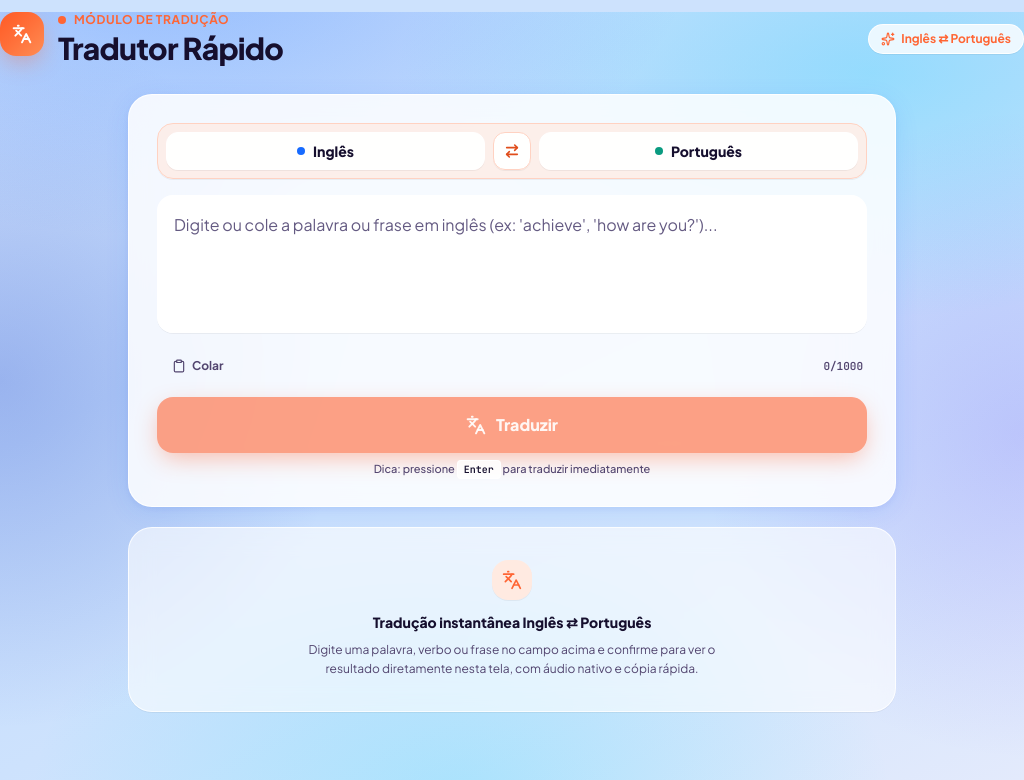
Test: QuickTranslatorView Component Tests › inverts language direction and swaps content without data loss
Replace the text in the text box with placeholder "Digite ou cole a palavra ou frase em inglês" with "break" at coordinates (512, 264), box [157,195,867,333]
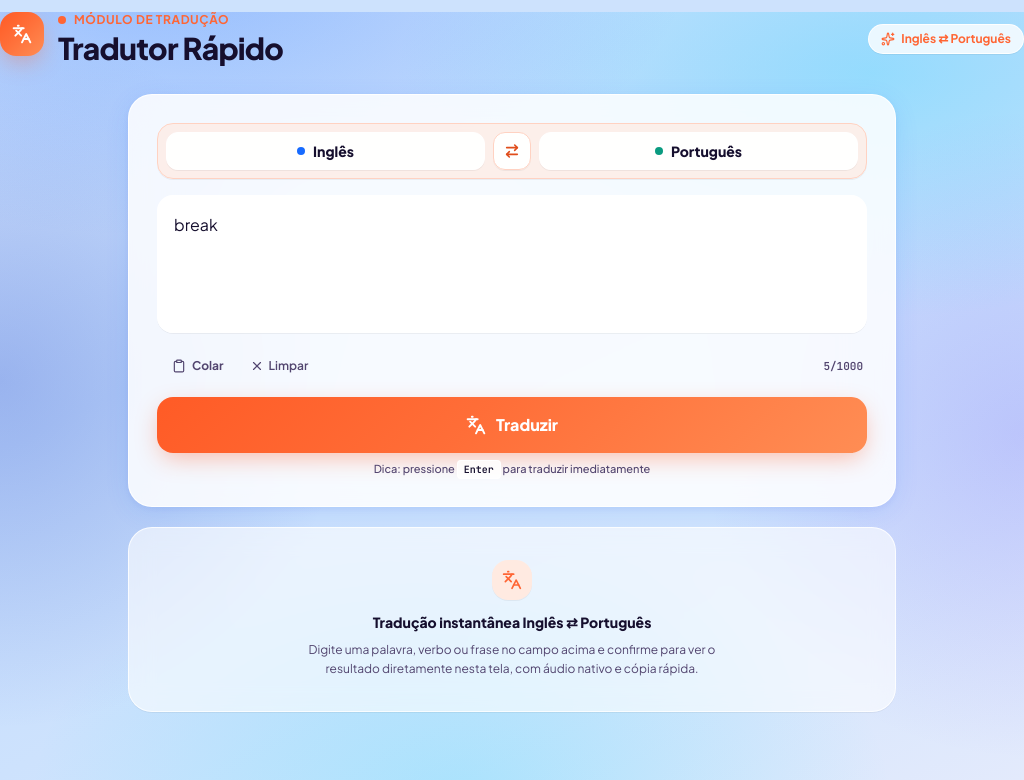
Click the button "Traduzir" at coordinates (512, 425), box [157,397,867,453]
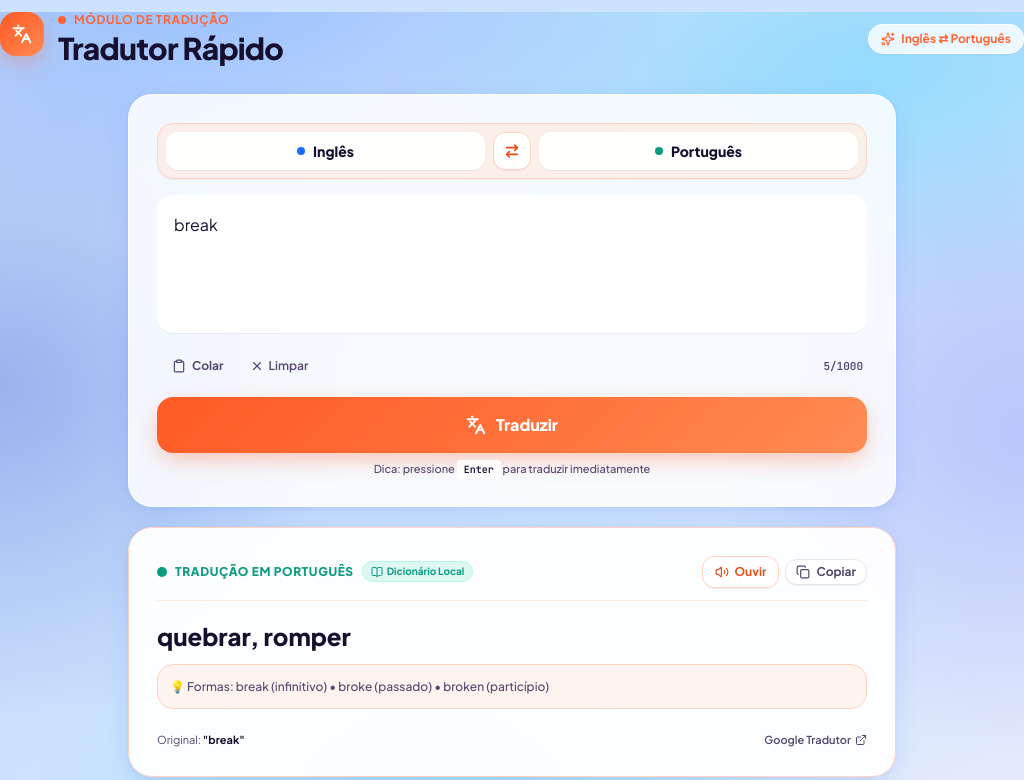
Check: the text "Tradução em Português" is shown, box [175,564,354,580]
Note: Click invert direction
Click the button titled "Inverter direção da tradução" at coordinates (512, 151), box [493,132,531,170]
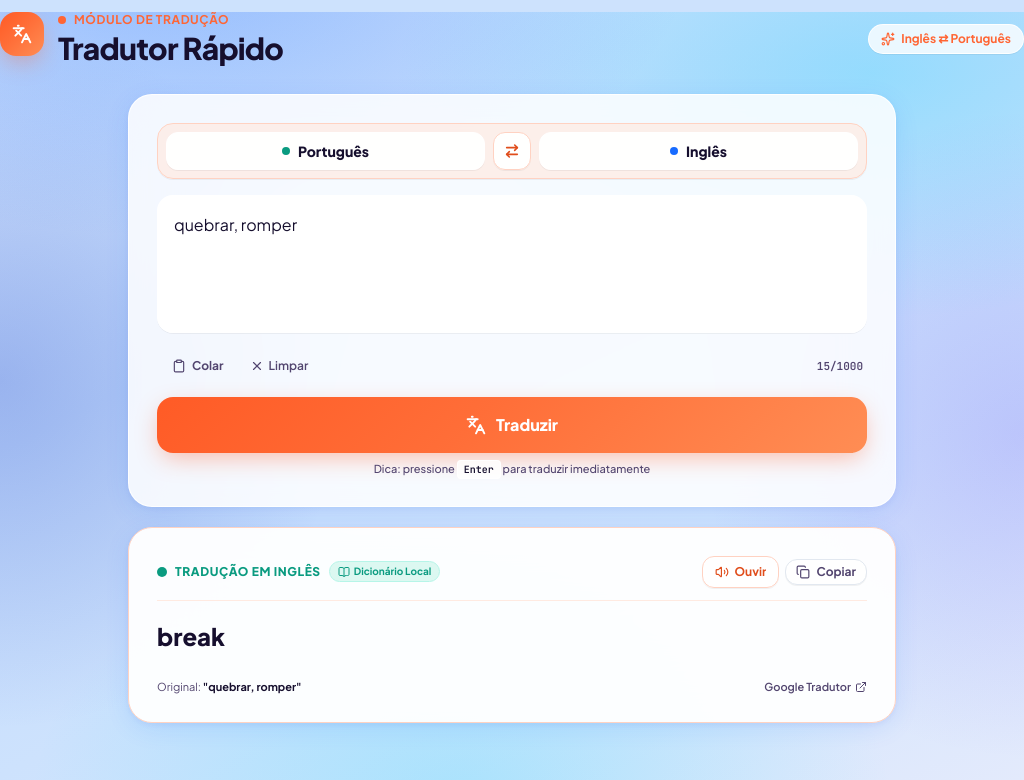
Check: the text "Tradução em Inglês" is shown, box [175,564,321,580]
